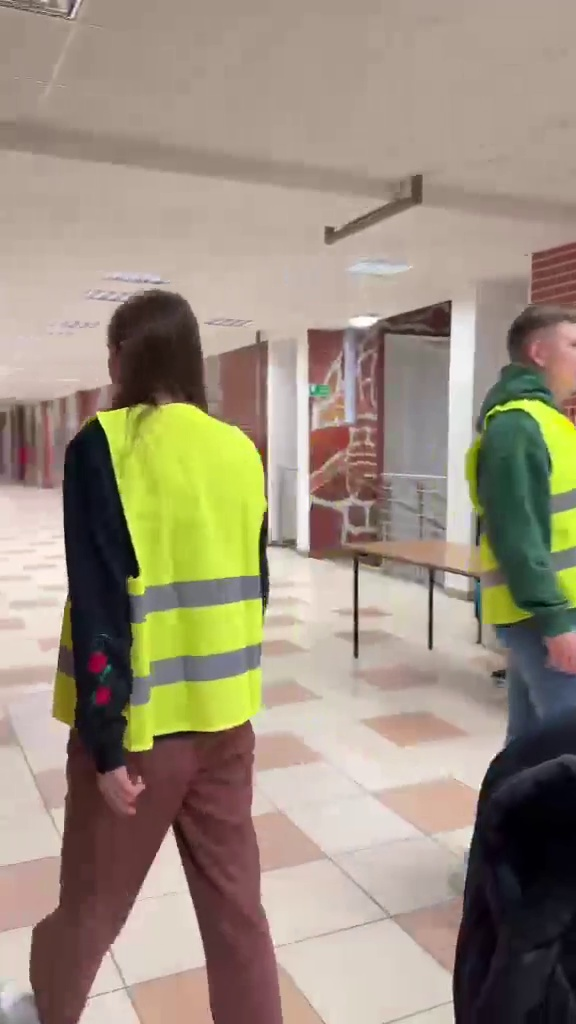vest: (44, 288, 286, 1000), (455, 303, 576, 755)
